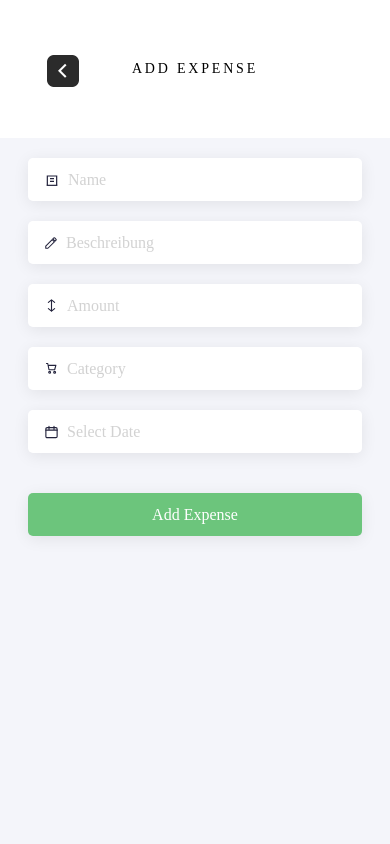
Scenario: MoneyManagement3Screen › opens the category picker and selects a category
Click the button with test id "input-category". click: (96,368)
box: 28,347 -> 362,390
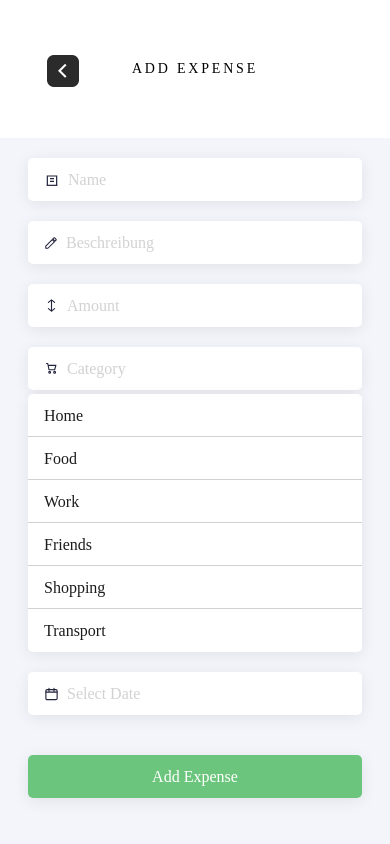
Check: the button with test id "category-option-home" is shown, box 28,394 -> 362,437
Check: the button with test id "category-option-food" is shown
Click the button with test id "category-option-food". click: (60,458)
box: 28,437 -> 362,480
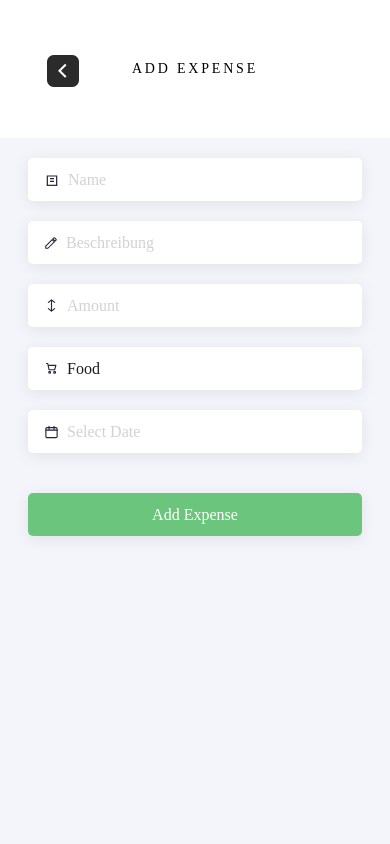
Check: the text "Food" is shown, box 67,360 -> 100,377
